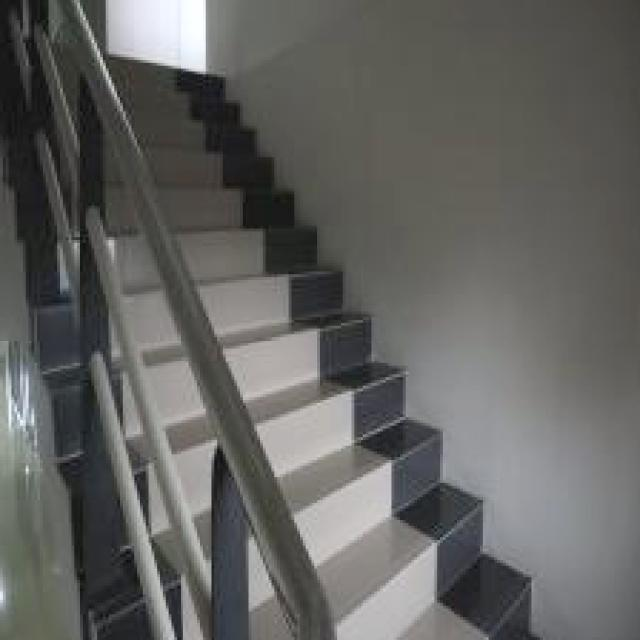upstair: (201, 204, 352, 375)
